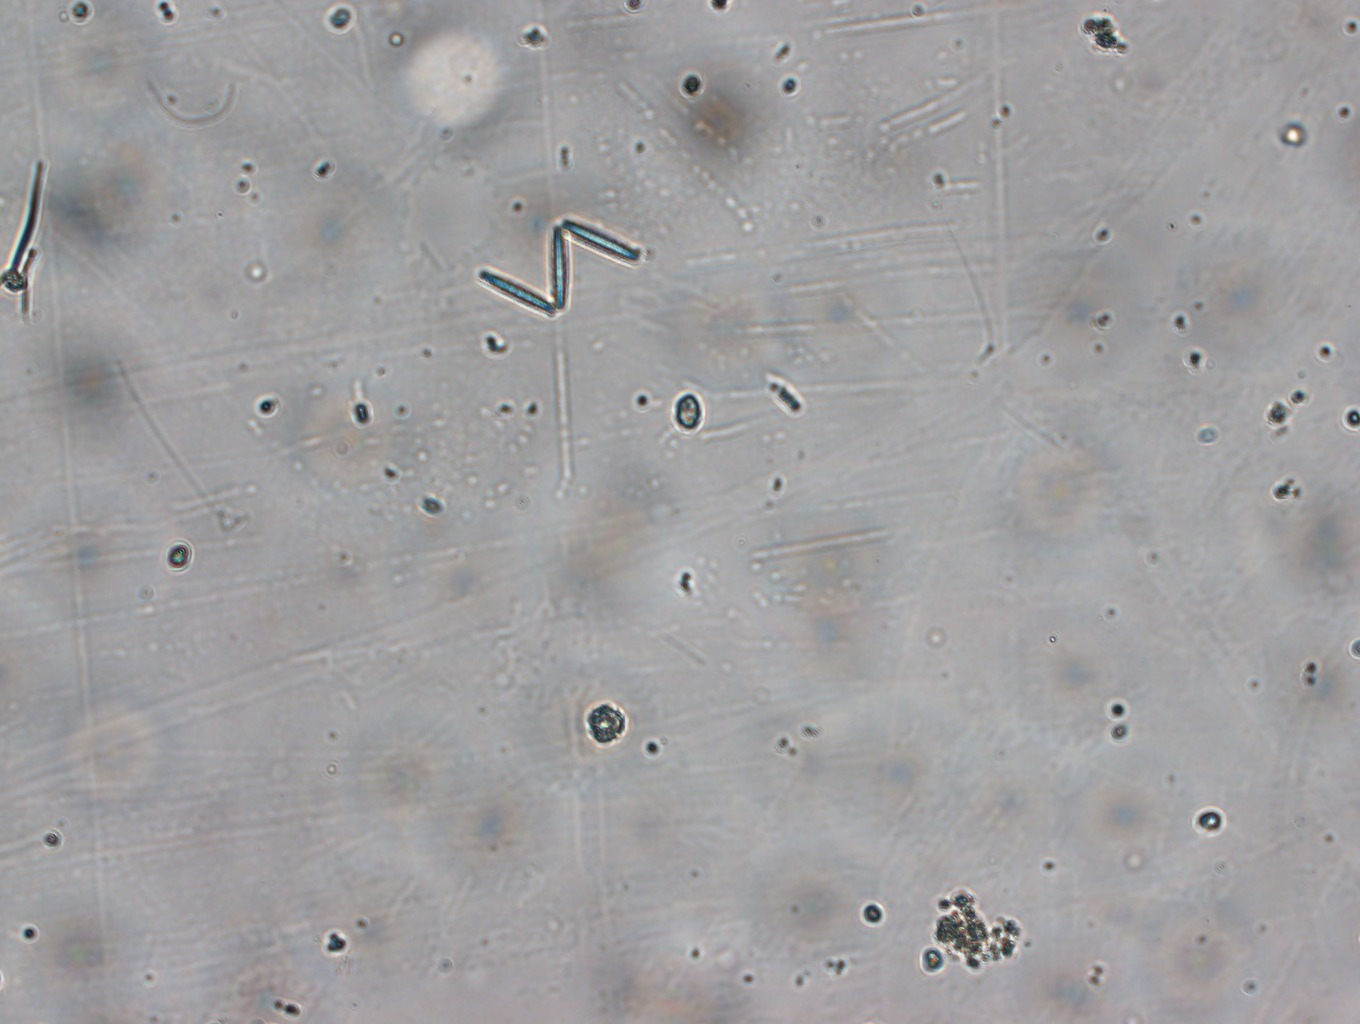thalassionema nitzschioides: (472, 222, 659, 321)
